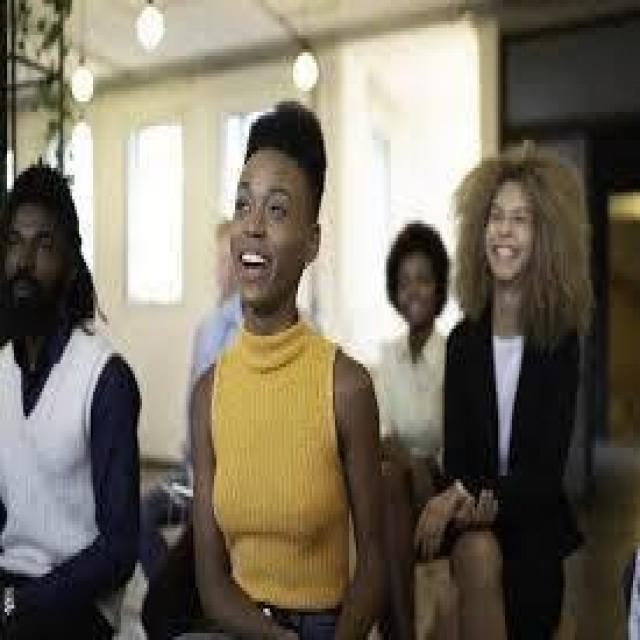person: (163, 77, 396, 636), (430, 80, 616, 636), (5, 122, 158, 619), (366, 165, 456, 490)
